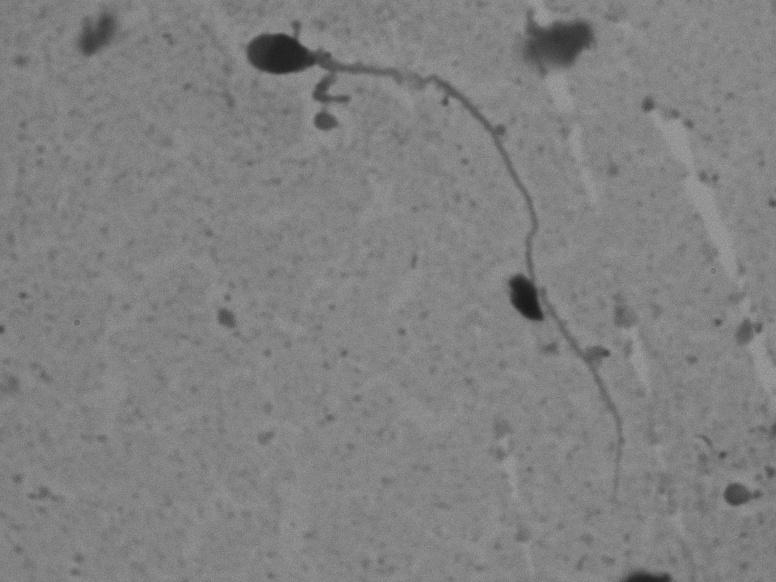Abnormal: (225, 17, 632, 526)
